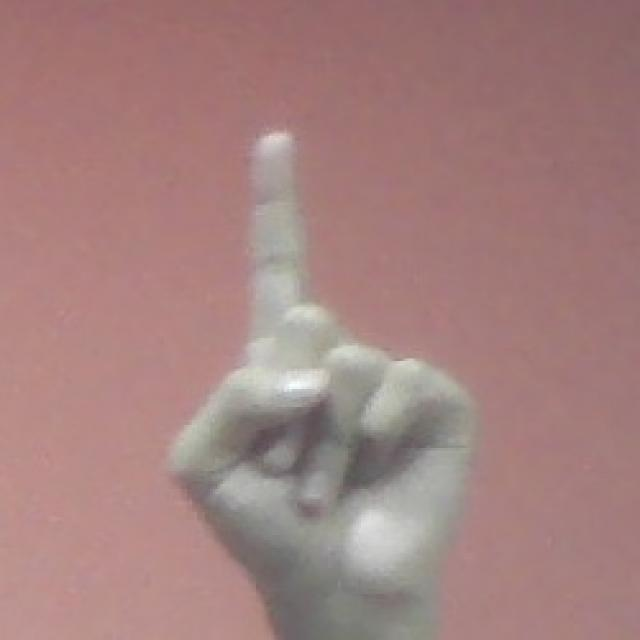Numeric-1: (166, 126, 478, 607)
